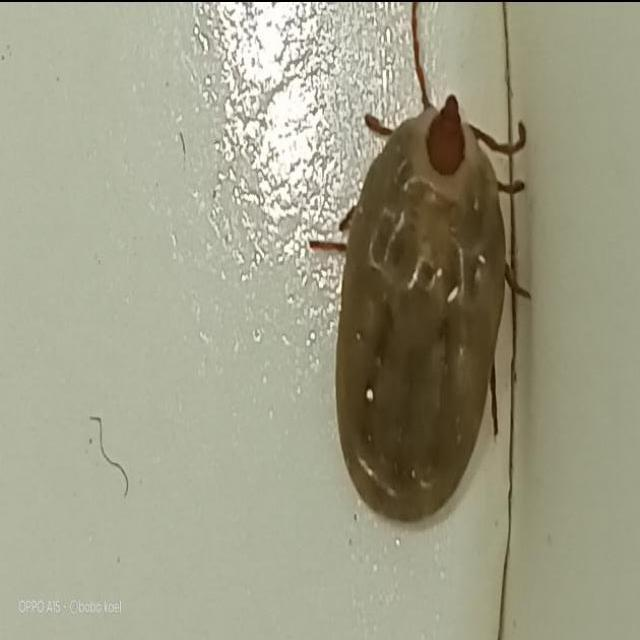Rhipicephalus Sanguineus-F-Fed: (309, 0, 532, 523)
